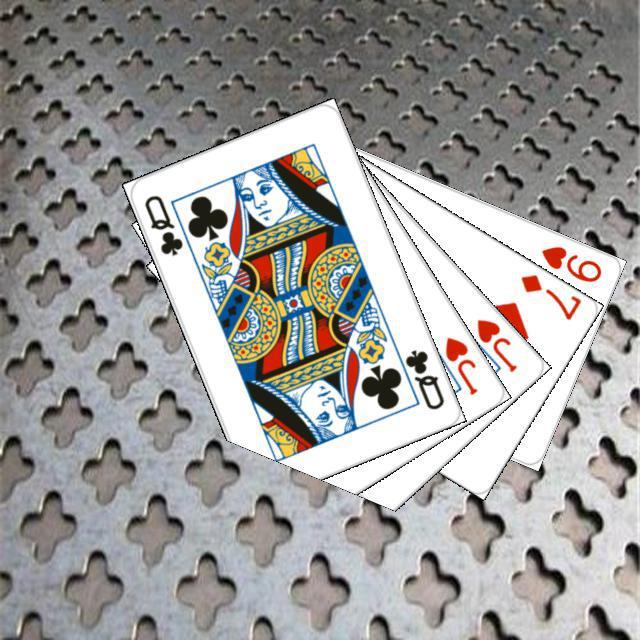7d: (515, 269, 582, 322)
9h: (536, 240, 604, 284)
Jh: (471, 314, 519, 374), (440, 332, 480, 397)
Qc: (390, 344, 446, 412), (139, 190, 185, 258)
